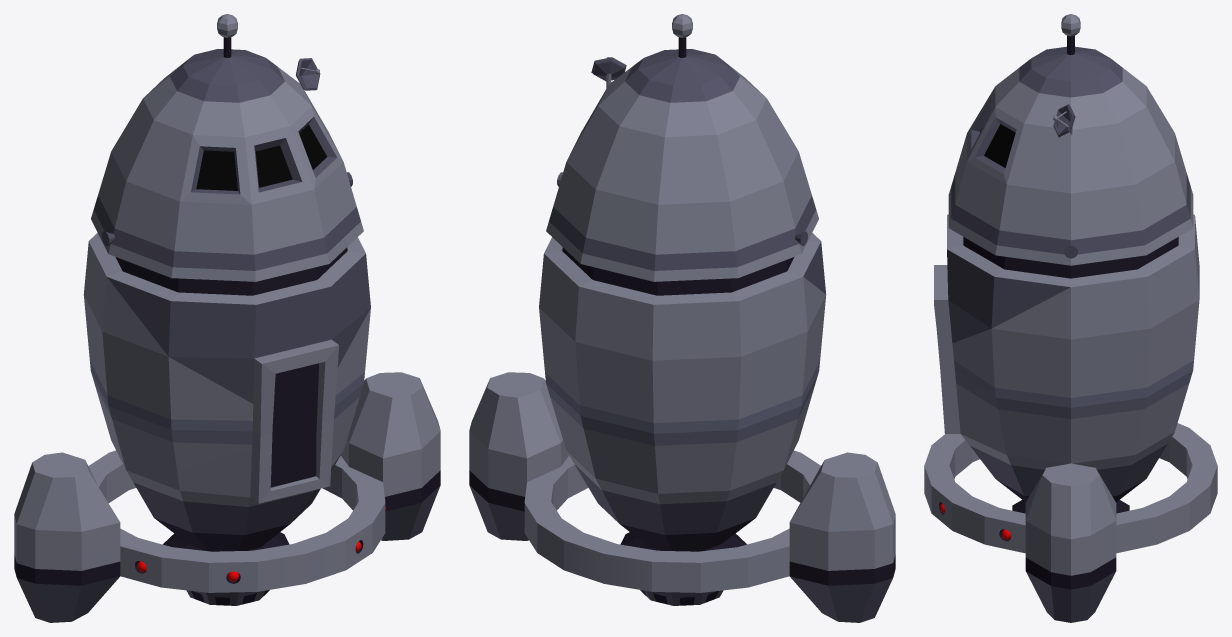
File: Mdl_PlayerShipWithMaterials.fbx
The picture shows the model from 3 angles, left to right: view 1: azimuth 30°, elevation 25°; view 2: azimuth 150°, elevation 25°; view 3: azimuth 270°, elevation 25°; orthographic projection. The views are drawn at different scales.
Parts seen in each view (by area): view 1: nave; view 2: nave; view 3: nave.
Part boxes in pixels (x1,y1,x2,y2): nave: [14, 14, 440, 622]; nave: [469, 14, 895, 622]; nave: [924, 14, 1217, 622].
Bounding box in the file's own units: 7.92 × 10.29 × 5.1.
